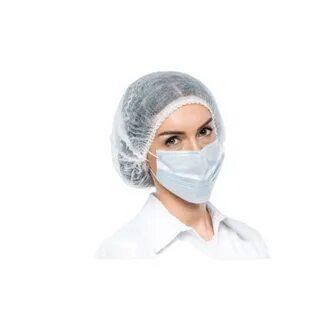hairnet: (90, 61, 248, 197)
mask: (150, 141, 229, 214)
